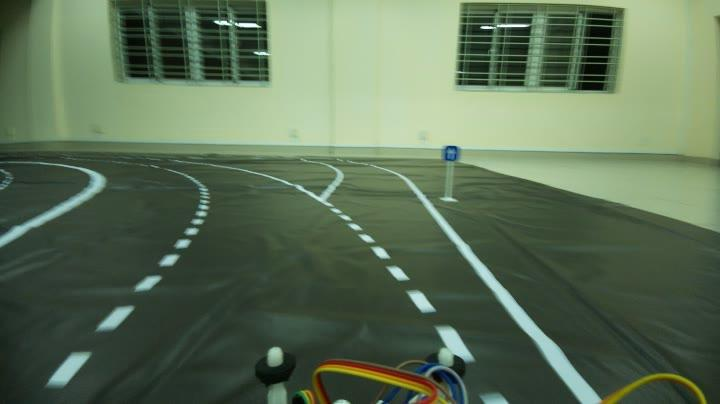onewayroad: (439, 145, 464, 162)
